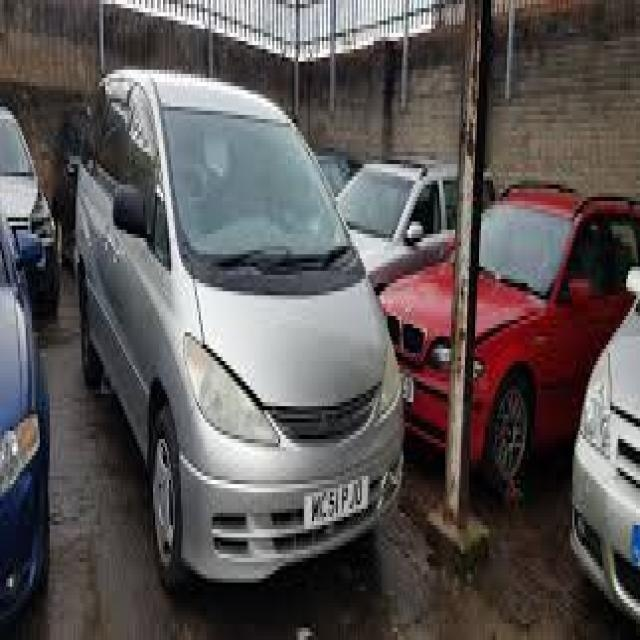Van: (72, 66, 406, 595)
